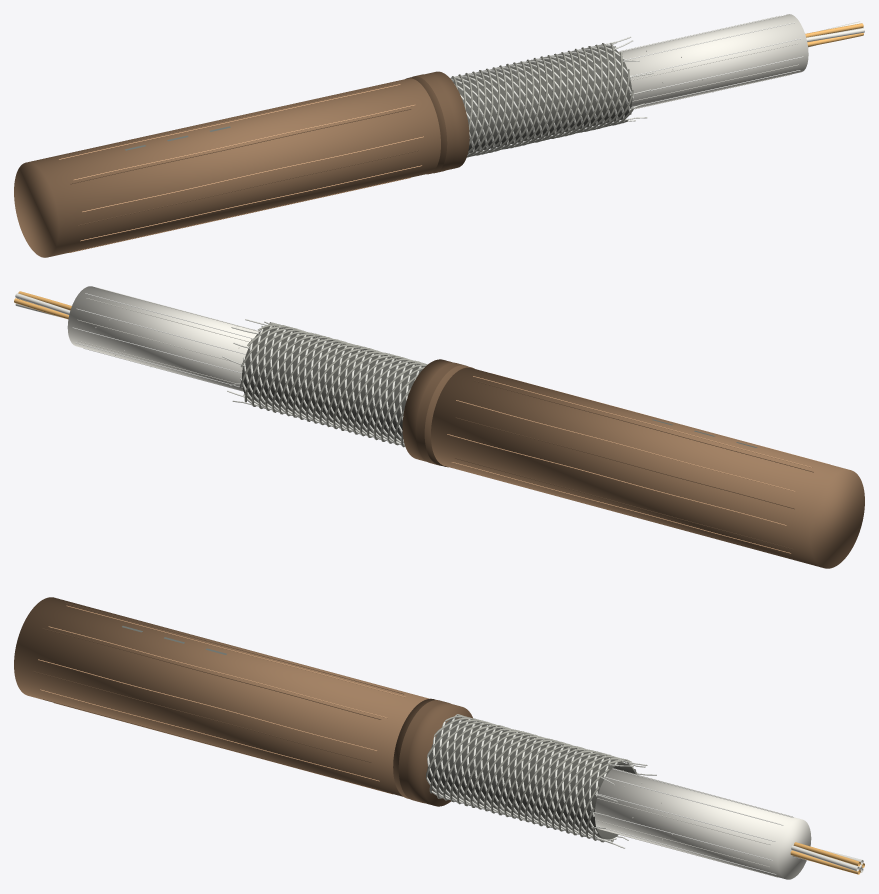
Rendered from rf-rg316-macro.glb.
3 views of the same model, one above another, from view 1: azimuth 30°, elevation 25°; view 2: azimuth 150°, elevation 25°; view 3: azimuth 330°, elevation 25° (orthographic). The views are drawn at different scales.
Visible parts, largest first — view 1: macro jacket body, macro dielectric exposed core, shadow seen through braid windows, thick jacket cut wall, rounded jacket cut lip, jacket axial surface line 05, jacket axial surface line 04; view 2: macro jacket body, macro dielectric exposed core, shadow seen through braid windows, thick jacket cut wall, rounded jacket cut lip; view 3: macro jacket body, macro dielectric exposed core, shadow seen through braid windows, thick jacket cut wall, rounded jacket cut lip.
Boxes of the visible parts, left/top/right/bottom form: macro jacket body: left=14, top=78, right=440, bottom=257; macro dielectric exposed core: left=619, top=14, right=808, bottom=108; shadow seen through braid windows: left=453, top=46, right=632, bottom=152; thick jacket cut wall: left=406, top=71, right=469, bottom=174; rounded jacket cut lip: left=412, top=74, right=456, bottom=173; jacket axial surface line 05: left=82, top=136, right=423, bottom=212; jacket axial surface line 04: left=73, top=104, right=414, bottom=180; macro jacket body: left=431, top=367, right=864, bottom=568; macro dielectric exposed core: left=67, top=286, right=258, bottom=391; shadow seen through braid windows: left=242, top=326, right=422, bottom=441; thick jacket cut wall: left=402, top=359, right=474, bottom=467; rounded jacket cut lip: left=415, top=362, right=467, bottom=465; macro jacket body: left=14, top=597, right=429, bottom=796; macro dielectric exposed core: left=595, top=768, right=811, bottom=879; shadow seen through braid windows: left=427, top=718, right=634, bottom=839; thick jacket cut wall: left=393, top=698, right=472, bottom=806; rounded jacket cut lip: left=398, top=700, right=450, bottom=802.
Size of the model in its own units: 6.44 by 0.6844 by 0.8316.
